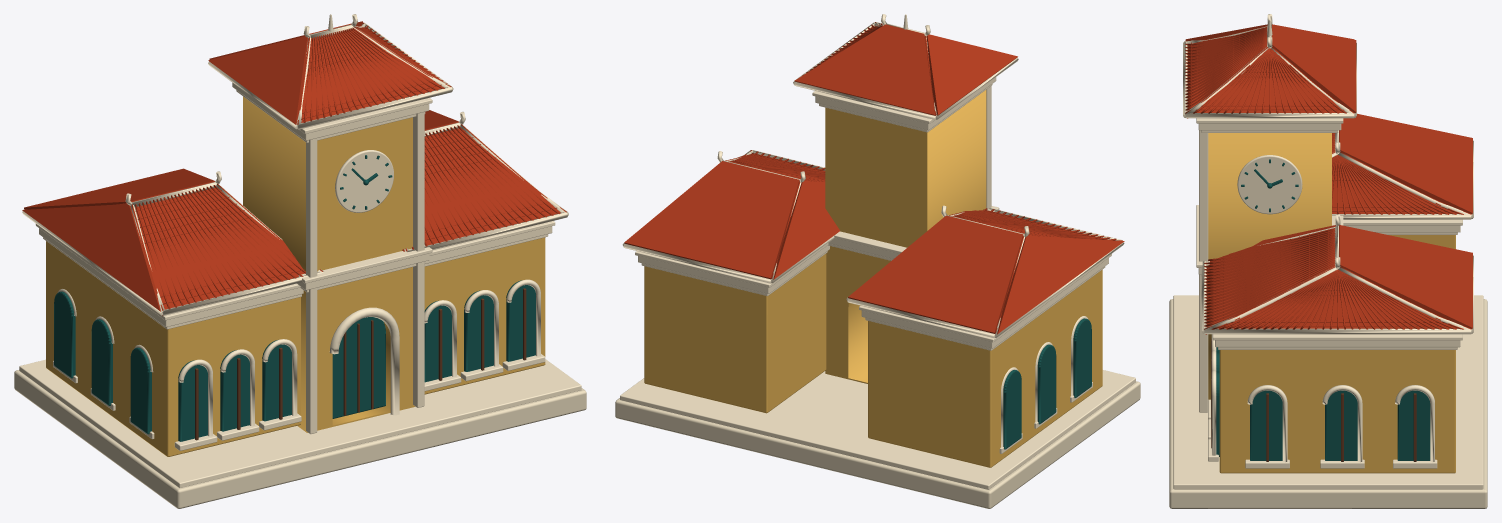
Rendered from ho-chi-minh.glb.
3 renders of one model, left to right at view 1: azimuth 30°, elevation 25°; view 2: azimuth 150°, elevation 25°; view 3: azimuth 270°, elevation 25°, orthographic. The views are drawn at different scales.
Parts seen in each view (by area): view 1: LANDMARK_ho-chi-minh.001; view 2: LANDMARK_ho-chi-minh.001; view 3: LANDMARK_ho-chi-minh.001.
Boxes of the visible parts, bbox=[...] form: LANDMARK_ho-chi-minh.001: bbox=[14, 14, 586, 508]; LANDMARK_ho-chi-minh.001: bbox=[615, 14, 1140, 508]; LANDMARK_ho-chi-minh.001: bbox=[1169, 14, 1487, 508].
Size of the model in its own units: 1.42 by 1.35 by 0.9904.
